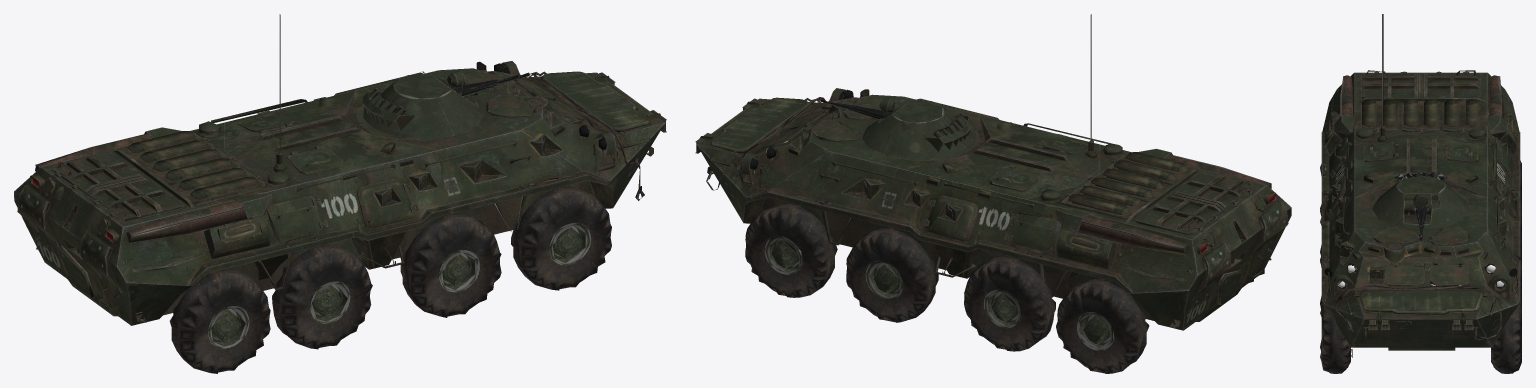
The model's file is btr80.glb.
The picture shows the model from 3 angles, left to right: view 1: azimuth 30°, elevation 25°; view 2: azimuth 150°, elevation 25°; view 3: azimuth 270°, elevation 25°; orthographic projection. The views are drawn at different scales.
Visible parts, largest first — view 1: Object_2, Object_4, Object_5; view 2: Object_2, Object_4, Object_5; view 3: Object_2, Object_5, Object_4, Object_3.
Part boxes in pixels (<box>): Object_2: <box>14,14,666,325</box>; Object_4: <box>169,186,611,373</box>; Object_5: <box>362,70,529,139</box>; Object_2: <box>695,14,1291,330</box>; Object_4: <box>745,202,1149,373</box>; Object_5: <box>820,97,973,159</box>; Object_2: <box>1321,14,1520,357</box>; Object_5: <box>1372,171,1470,240</box>; Object_4: <box>1320,160,1521,373</box>; Object_3: <box>1338,265,1504,287</box>.
Size of the model in its own units: 43.5 by 22.68 by 16.25.
4 materials, 3 textured.
